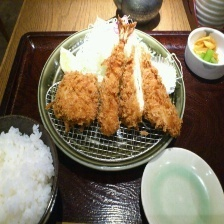rice: (0, 124, 55, 224)
